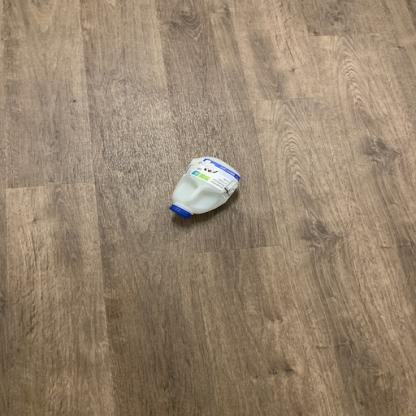trash: (168, 155, 244, 222)
